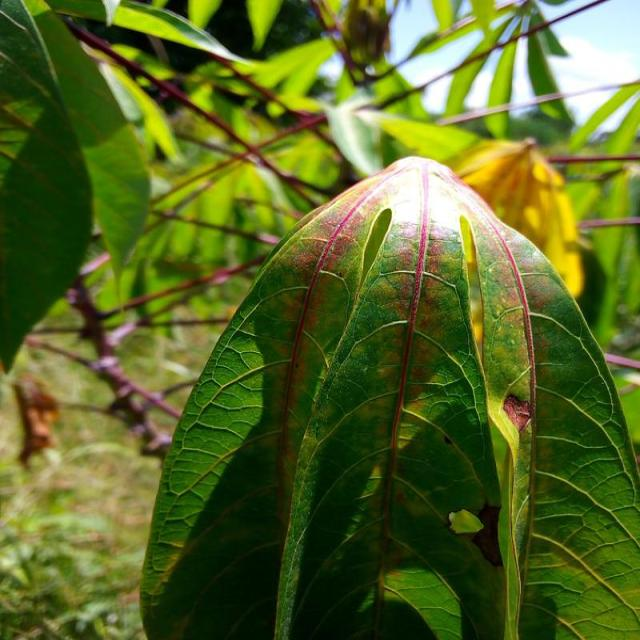cassava leaf: (138, 153, 638, 638)
